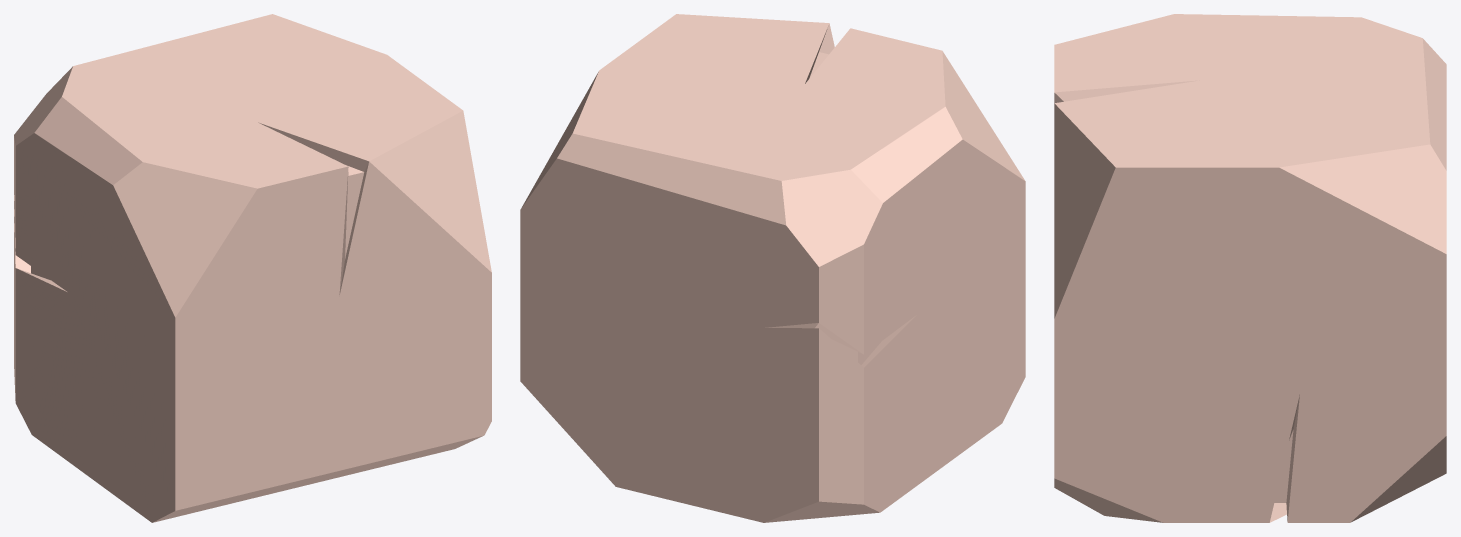
Rendered from Stone 14.fbx.
3 views of the same model, side by side, from view 1: azimuth 30°, elevation 25°; view 2: azimuth 150°, elevation 25°; view 3: azimuth 270°, elevation 25° (orthographic). The views are drawn at different scales.
Visible parts, largest first — view 1: Stone 14; view 2: Stone 14; view 3: Stone 14.
Part boxes in pixels (x1,y1,x2,y2): Stone 14: (14,14,491,522); Stone 14: (520,14,1025,522); Stone 14: (1054,14,1446,522).
Bounding box in the file's own units: 200 × 200 × 200.
